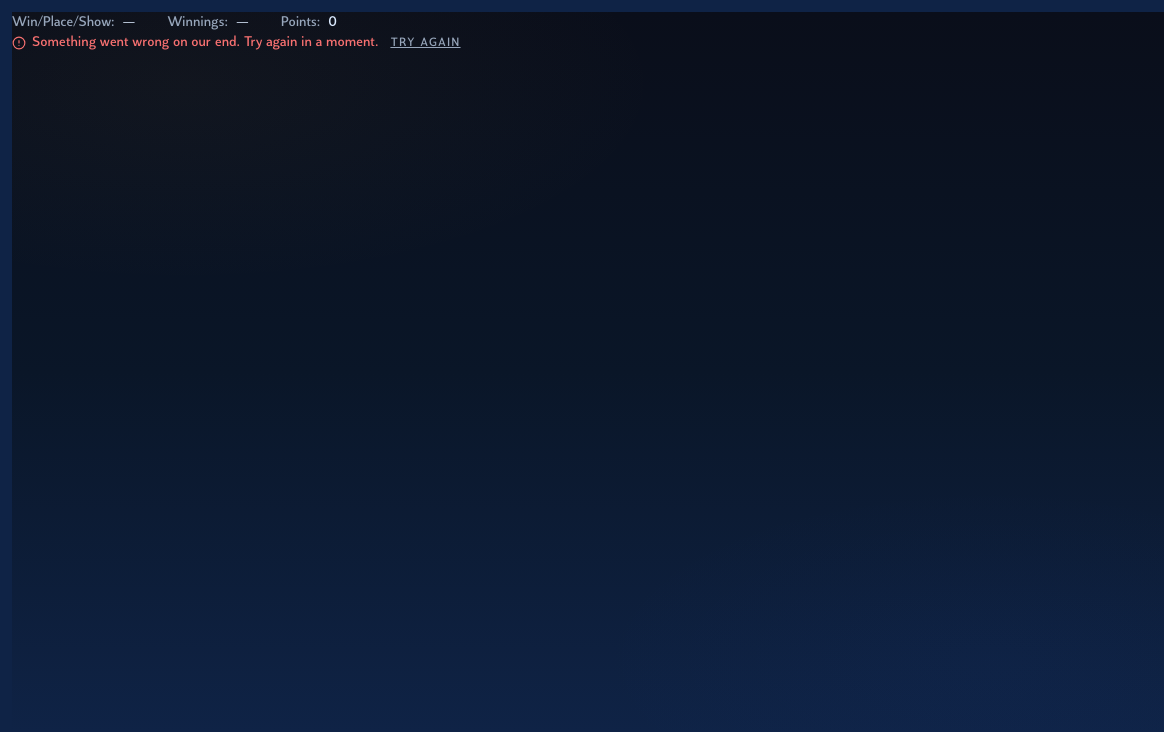
Show record line under the horse name (Equoria-b4msy, q225) › while loading and after a failed read the values are an em dash, never a zero, and Try Again reads again
Check: the text with test id "record-placings" reads "—", box [123,15,135,30]
Check: the text with test id "record-winnings" reads "—", box [236,15,249,30]
Step 1. Click the button "Try Again" → {"x": 426, "y": 43}, box [390,34,461,52]
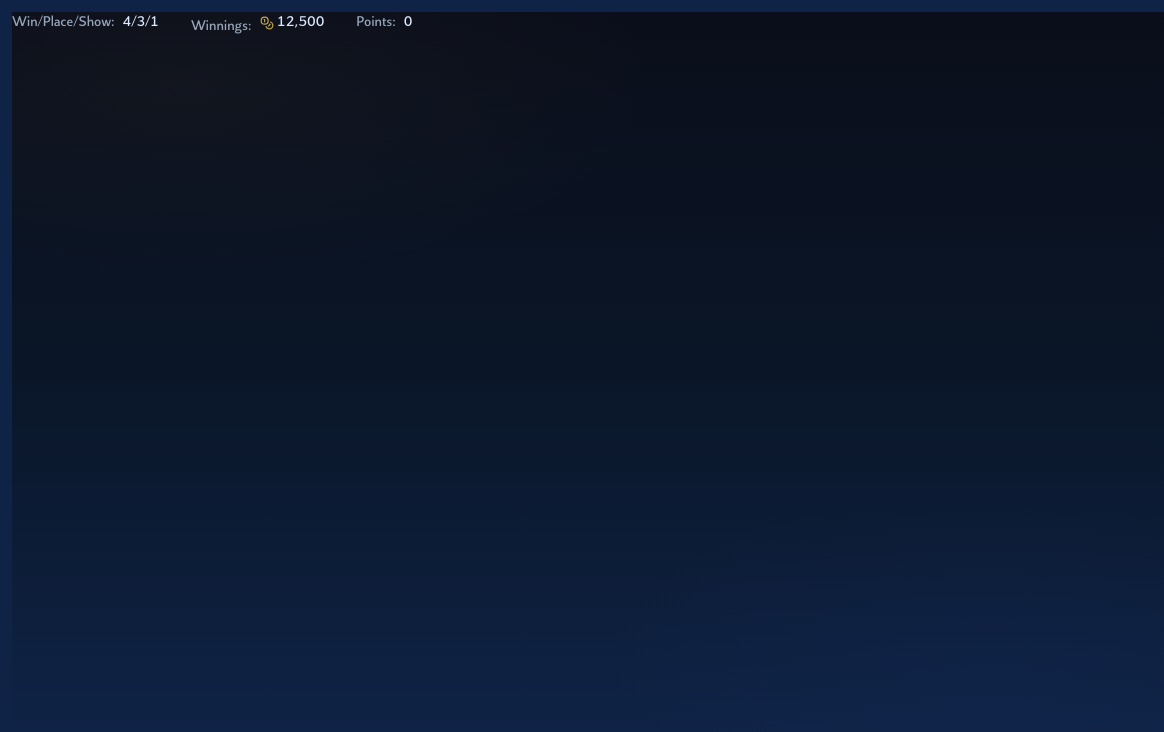
Check: the text "4/3/1" is shown, box [123,12,159,33]
Check: the element with test id "record-results-error" is gone
